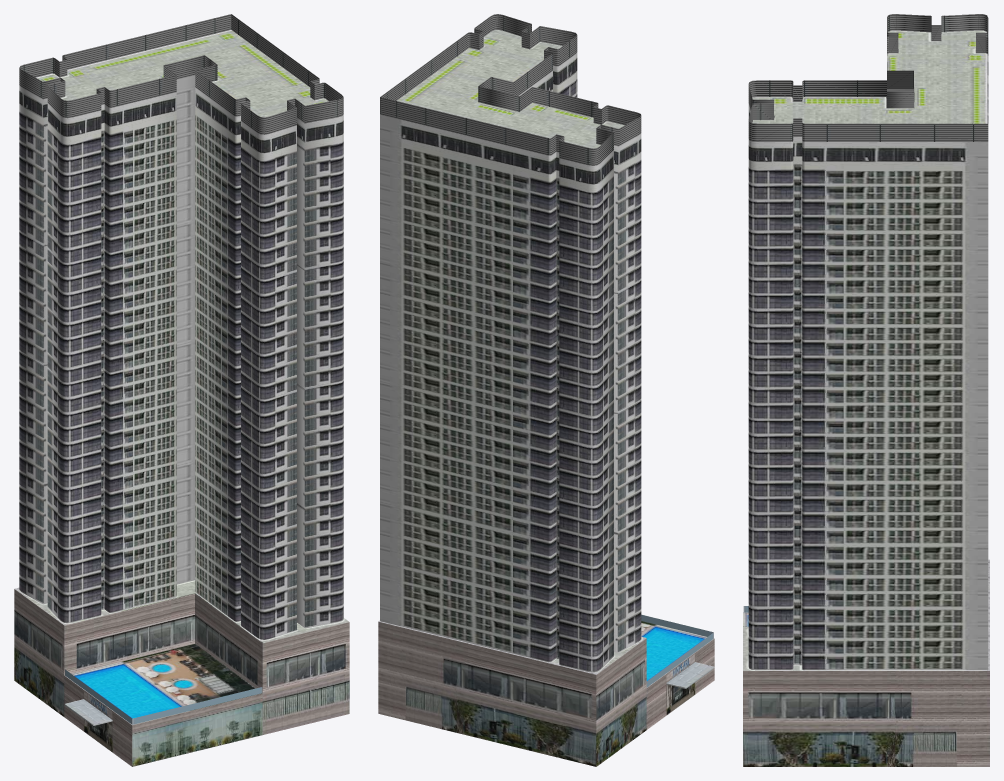
3 renders of one model, left to right at view 1: azimuth 30°, elevation 25°; view 2: azimuth 150°, elevation 25°; view 3: azimuth 270°, elevation 25°, orthographic. The views are drawn at different scales.
Parts seen in each view (by area): view 1: 5b31a76d8983f1120cb5bbee.001; view 2: 5b31a76d8983f1120cb5bbee.001; view 3: 5b31a76d8983f1120cb5bbee.001.
Part boxes in pixels (box(x1,y1,x2,y2)): 5b31a76d8983f1120cb5bbee.001: box(14, 14, 349, 766); 5b31a76d8983f1120cb5bbee.001: box(378, 14, 714, 766); 5b31a76d8983f1120cb5bbee.001: box(743, 14, 989, 766).
Size of the model in its own units: 66.29 by 164 by 57.17.
1 material, 1 textured.
